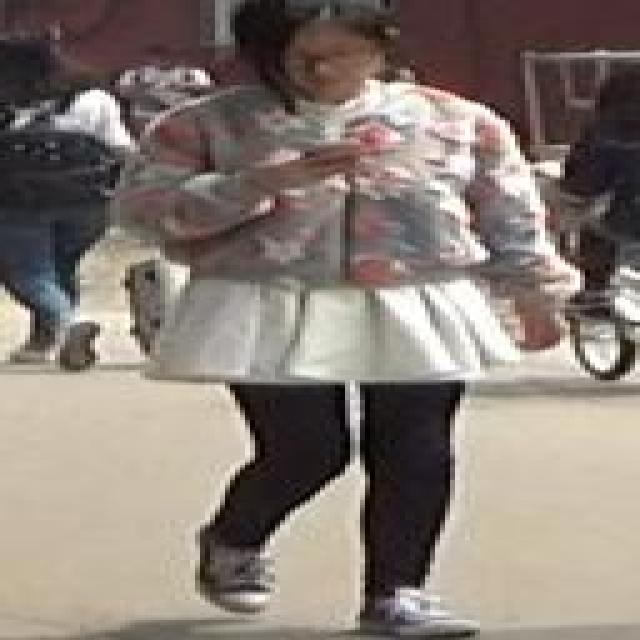adult: (130, 0, 555, 635), (0, 28, 144, 378)
